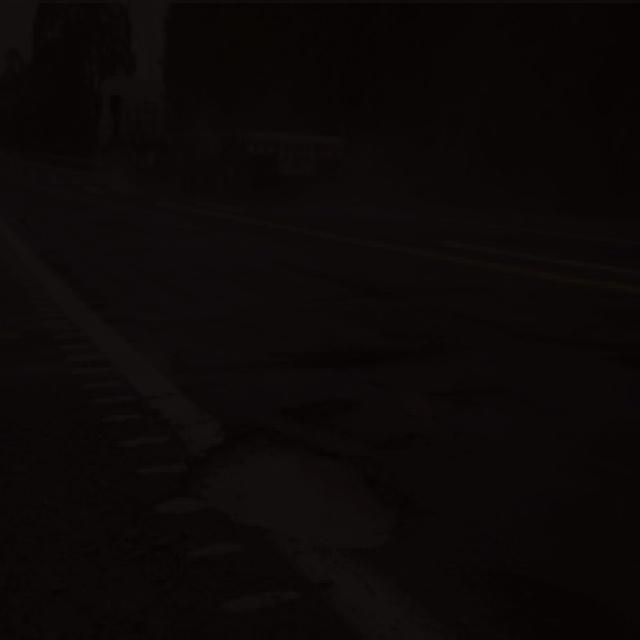Pothole: (164, 417, 417, 578), (488, 567, 636, 640), (289, 322, 435, 384)
